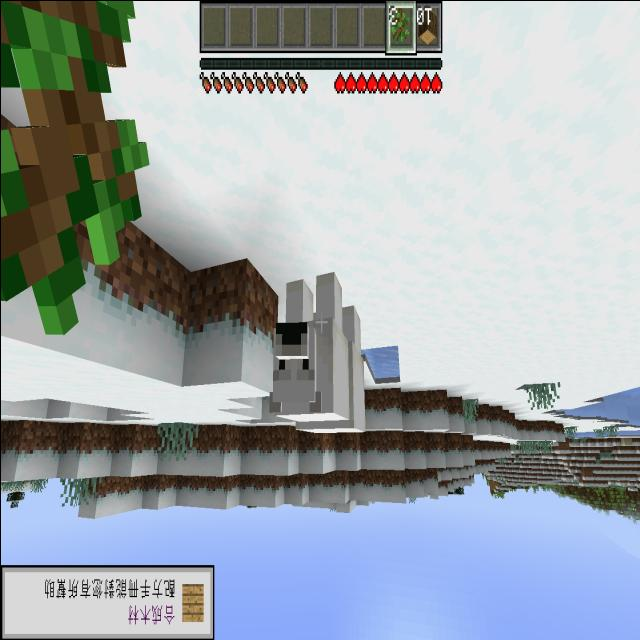Polar Bear: (264, 267, 372, 455)
